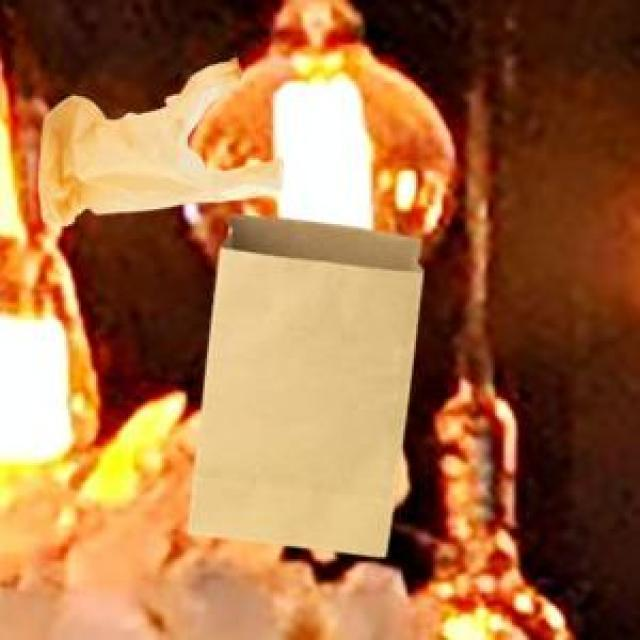paper: (184, 211, 418, 553)
